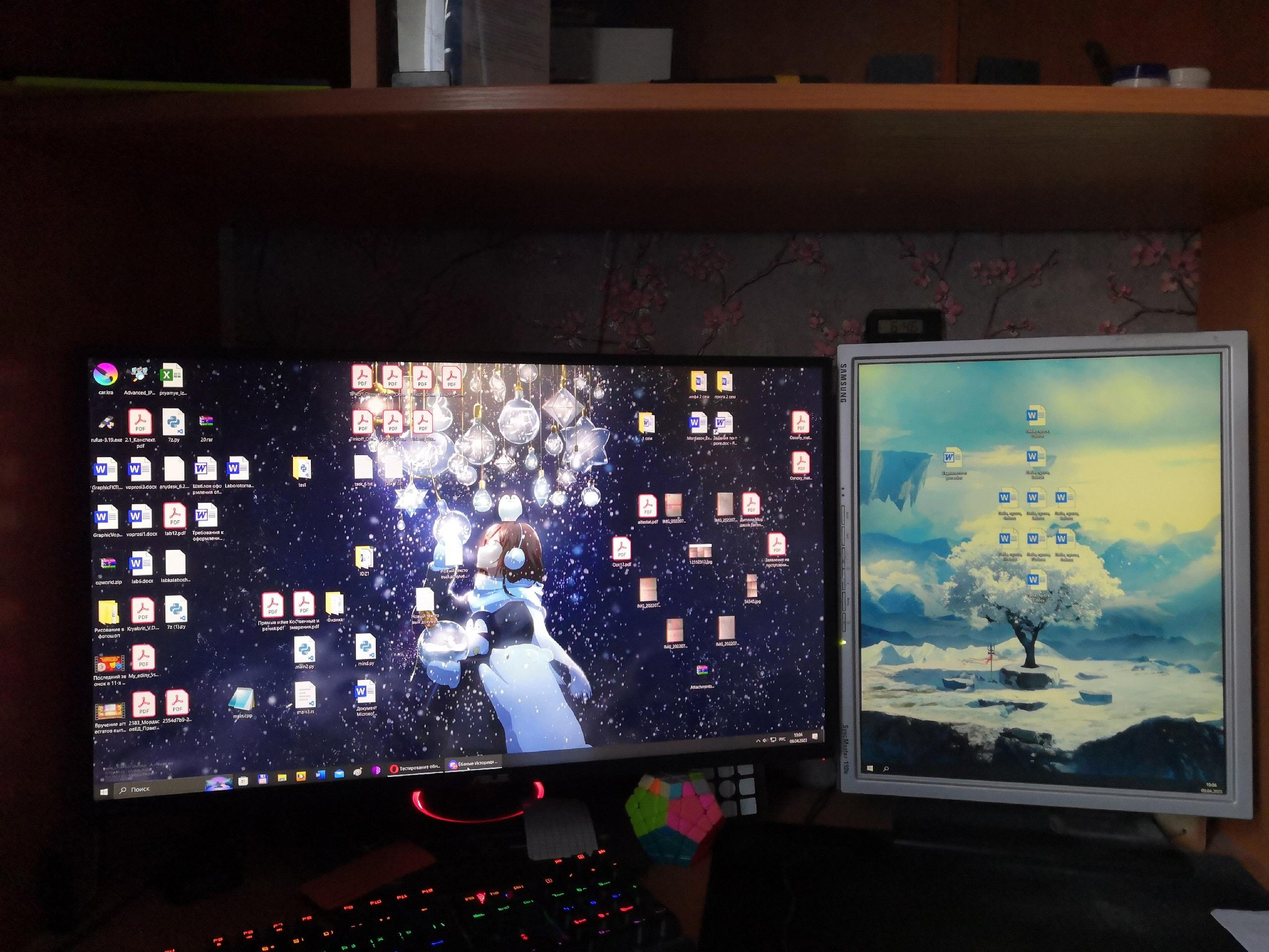monitor: (80, 350, 840, 813), (836, 327, 1253, 825)
